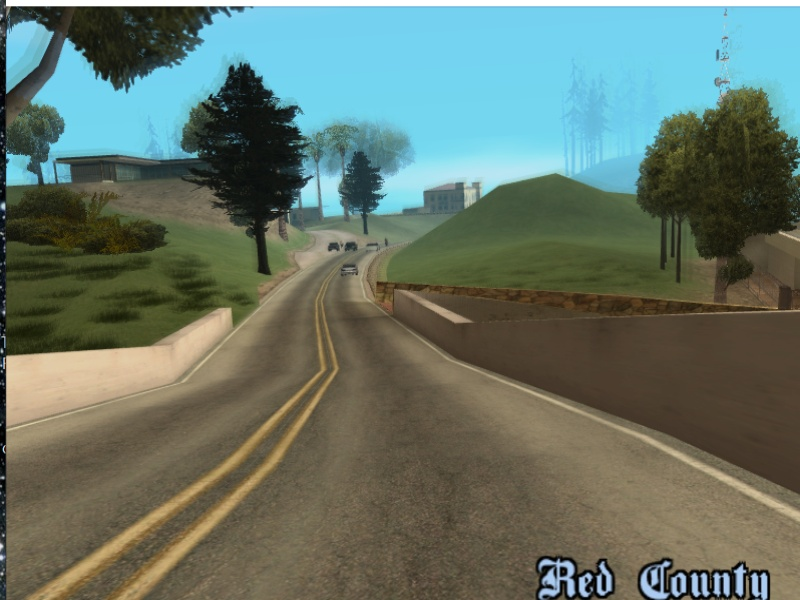tree: (247, 217, 271, 278)
vehicle: (339, 261, 358, 277), (344, 239, 357, 252), (330, 243, 342, 253)
